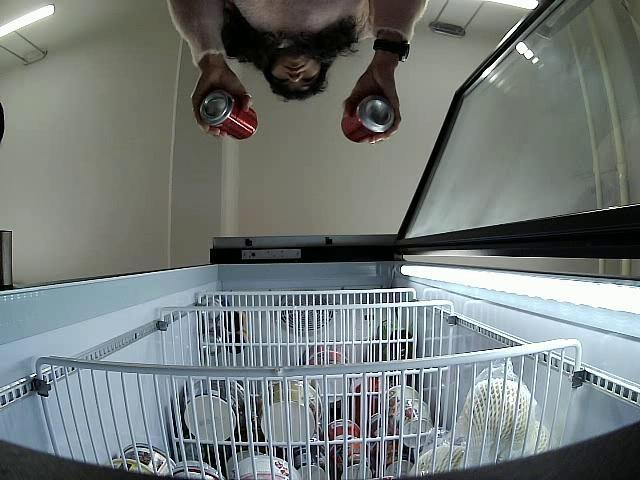11_cocaColaZero: (196, 88, 258, 140), (341, 92, 396, 142)
